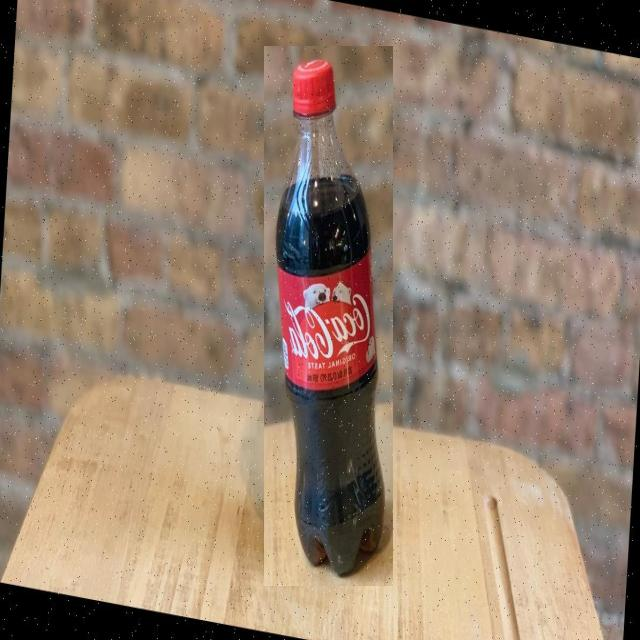coca-cola: (264, 46, 393, 586)
